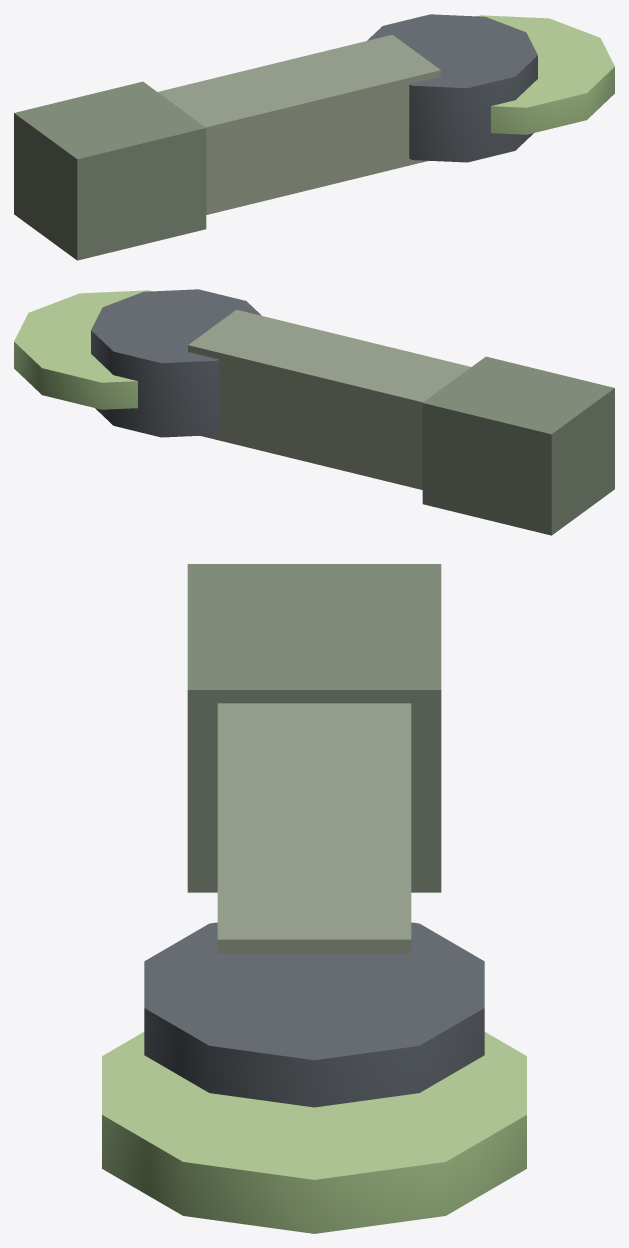
The model's file is t_gas_b.glb.
3 views of the same model, one above another, from view 1: azimuth 30°, elevation 25°; view 2: azimuth 150°, elevation 25°; view 3: azimuth 270°, elevation 25° (orthographic). The views are drawn at different scales.
Visible parts, largest first — view 1: t_gas_b; view 2: t_gas_b; view 3: t_gas_b.
Part boxes in pixels (x1,y1,x2,y2): t_gas_b: (14,14,614,260); t_gas_b: (14,289,614,535); t_gas_b: (102,564,526,1233).
Bounding box in the file's own units: 1.72 × 0.3 × 0.5706.
